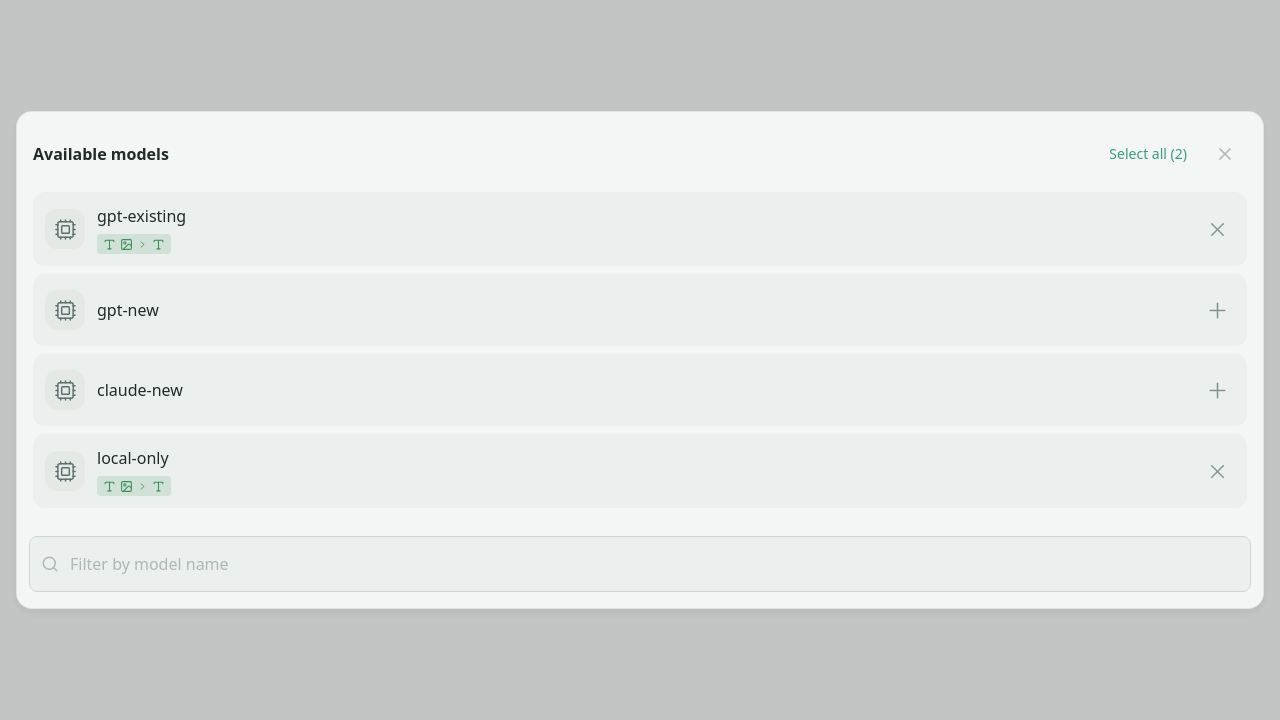
ProviderModelPickerDialog responsive flows › keeps the mobile sheet and query open after adding and removing without refetching
The width and height of the screenshot is (1280, 720).
Expected: the button with aria-label "Add model gpt-new" is shown, x1=33 y1=274 x2=1247 y2=346
Type "gpt-new" into the field labelled "Filter by model name".
click(640, 564); type("gpt-new")  # box x1=29 y1=536 x2=1251 y2=592
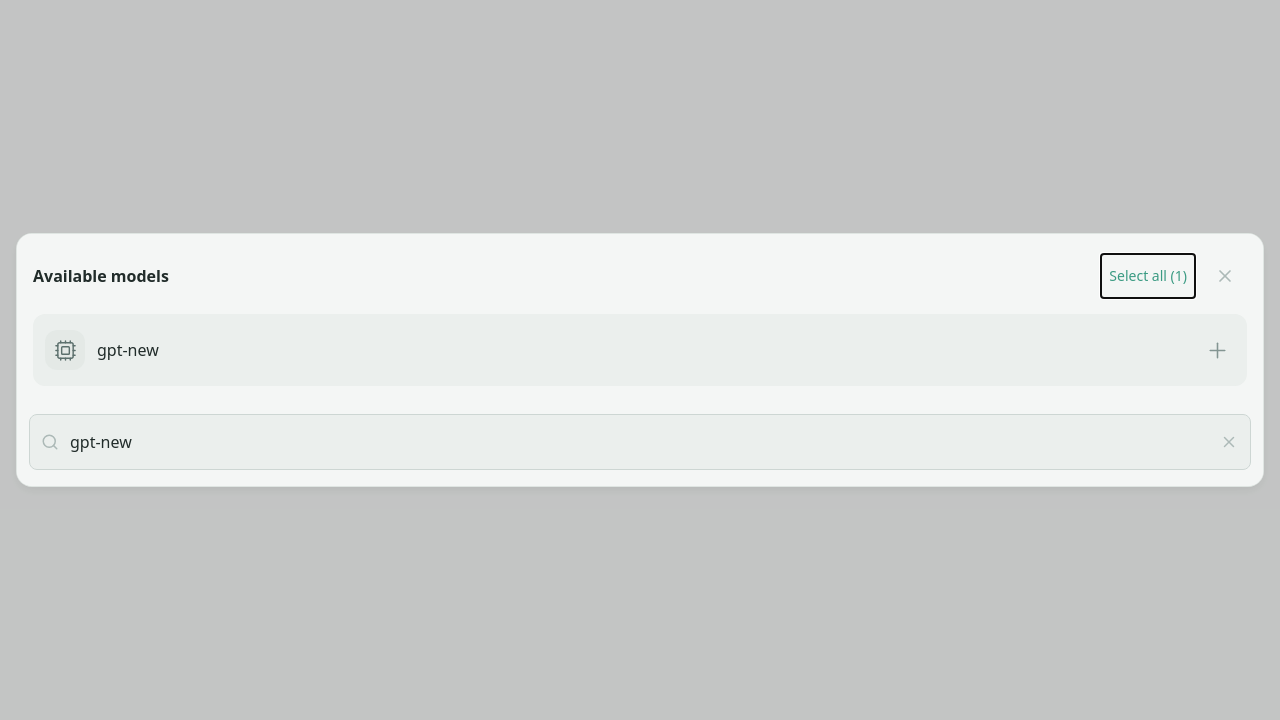
Click the button with aria-label "Add model gpt-new".
click(65, 350)  # box x1=33 y1=314 x2=1247 y2=386
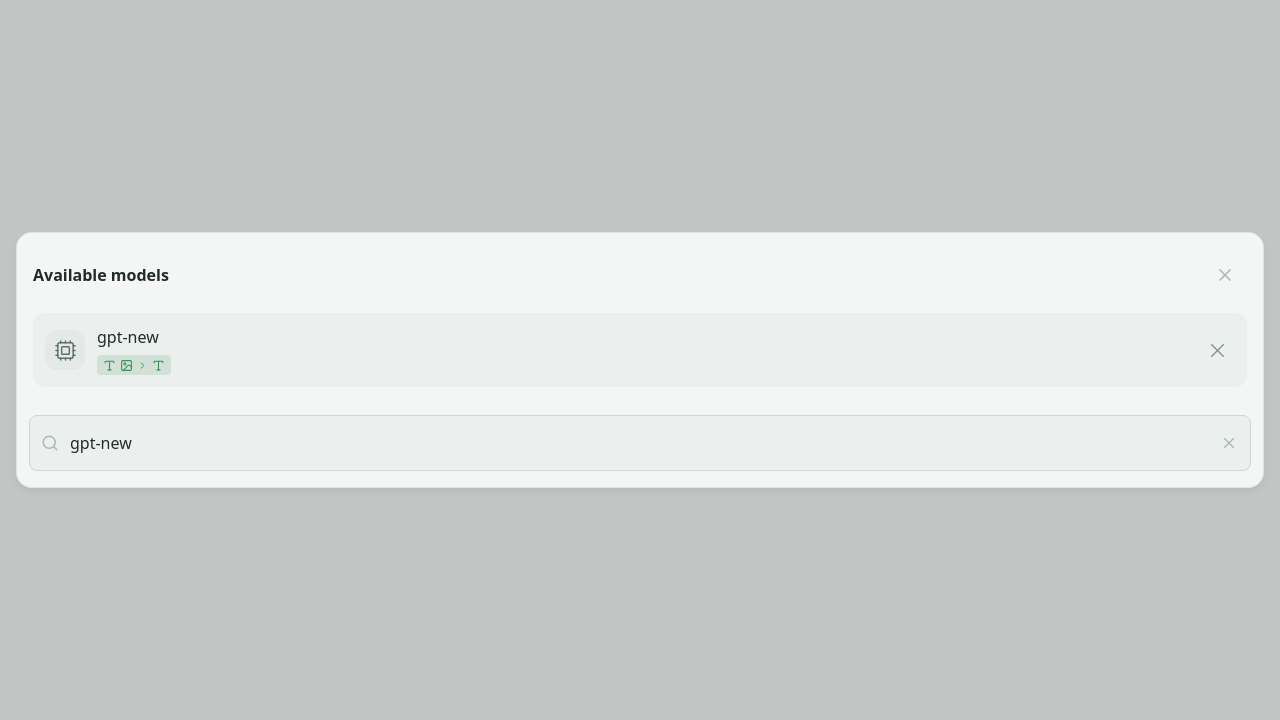
Expected: the button with aria-label "Delete model gpt-new" is shown
Click the button with aria-label "Delete model gpt-new".
click(65, 350)  # box x1=33 y1=313 x2=1247 y2=387
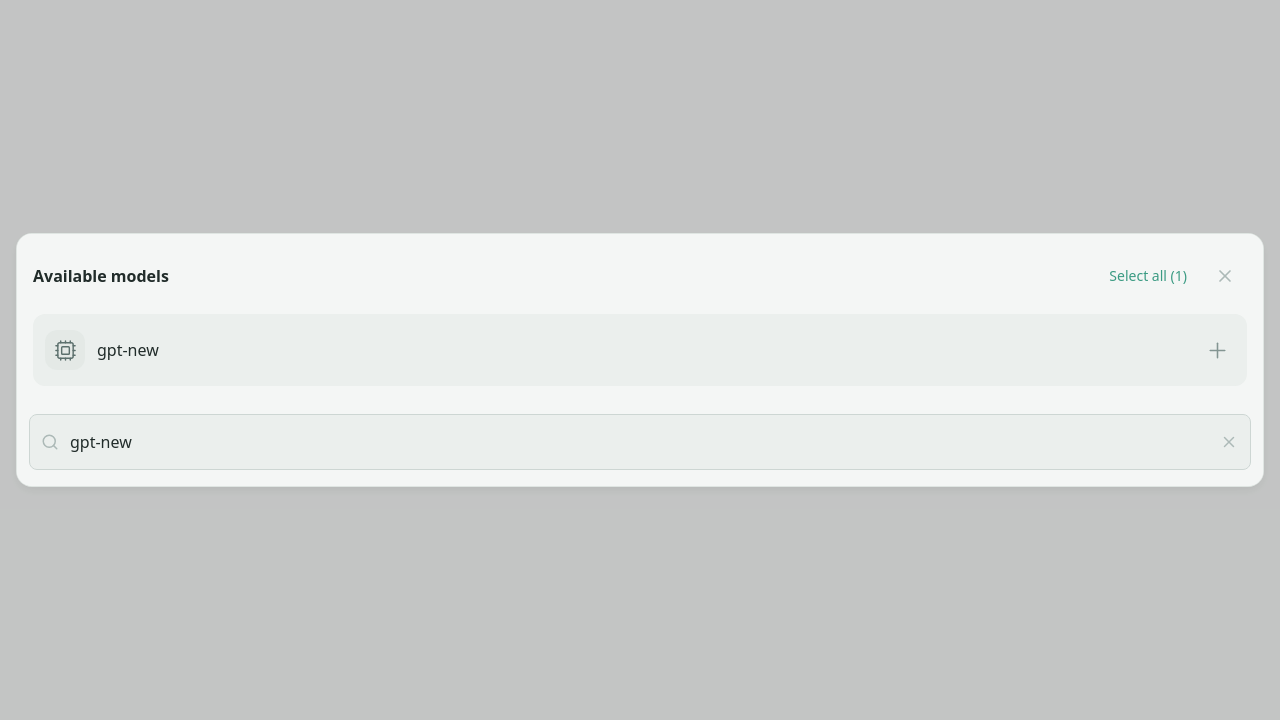
Expected: the button with aria-label "Add model gpt-new" is shown, x1=33 y1=314 x2=1247 y2=386
